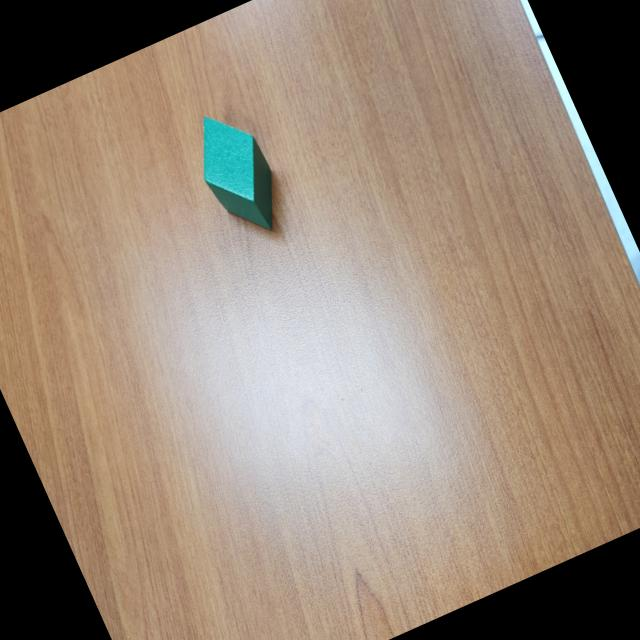green: (182, 100, 294, 247)
